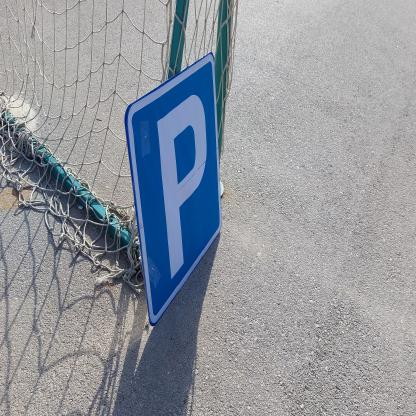Parking-Sign: (125, 52, 224, 331)
